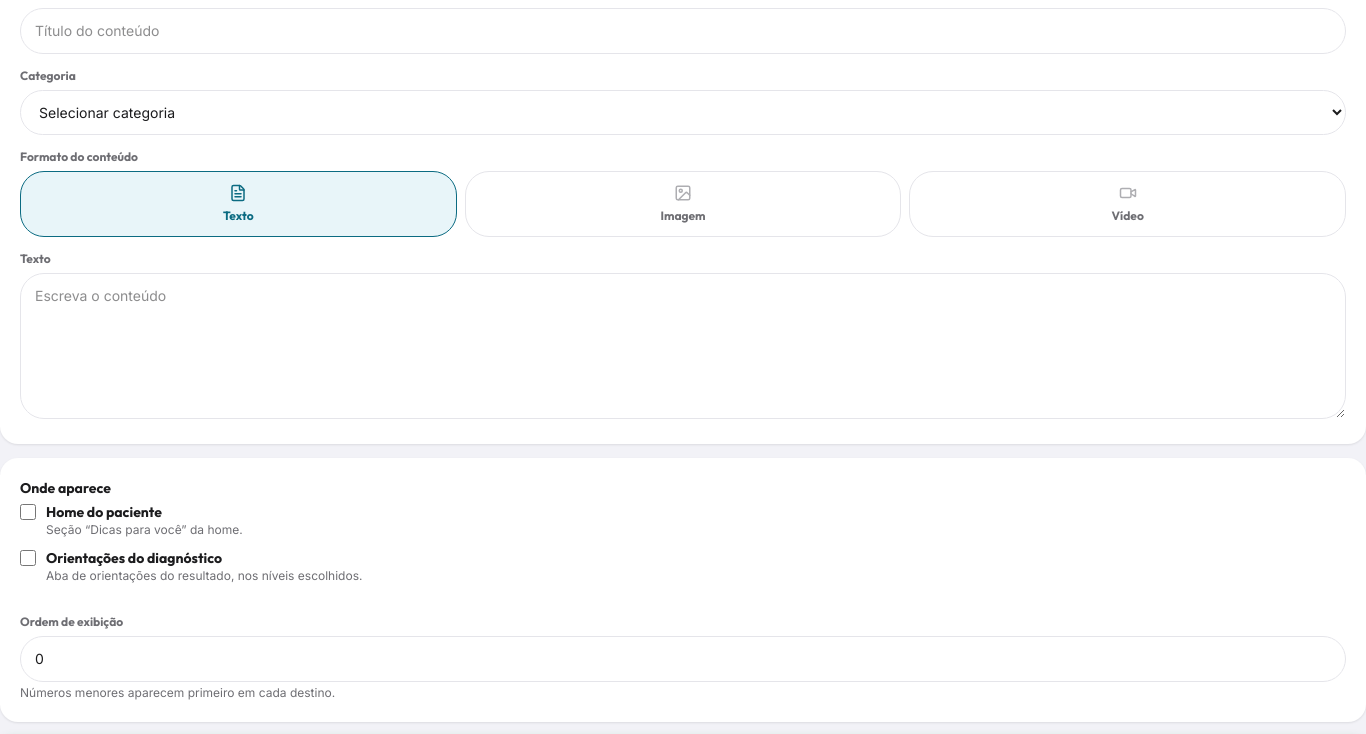
Scenario: ConteudoForm › mostra o que impede salvar e não envia
Click the checkbox labelled "Orientações do diagnóstico": (28, 558) [20, 550, 36, 566]
(page scrolled)
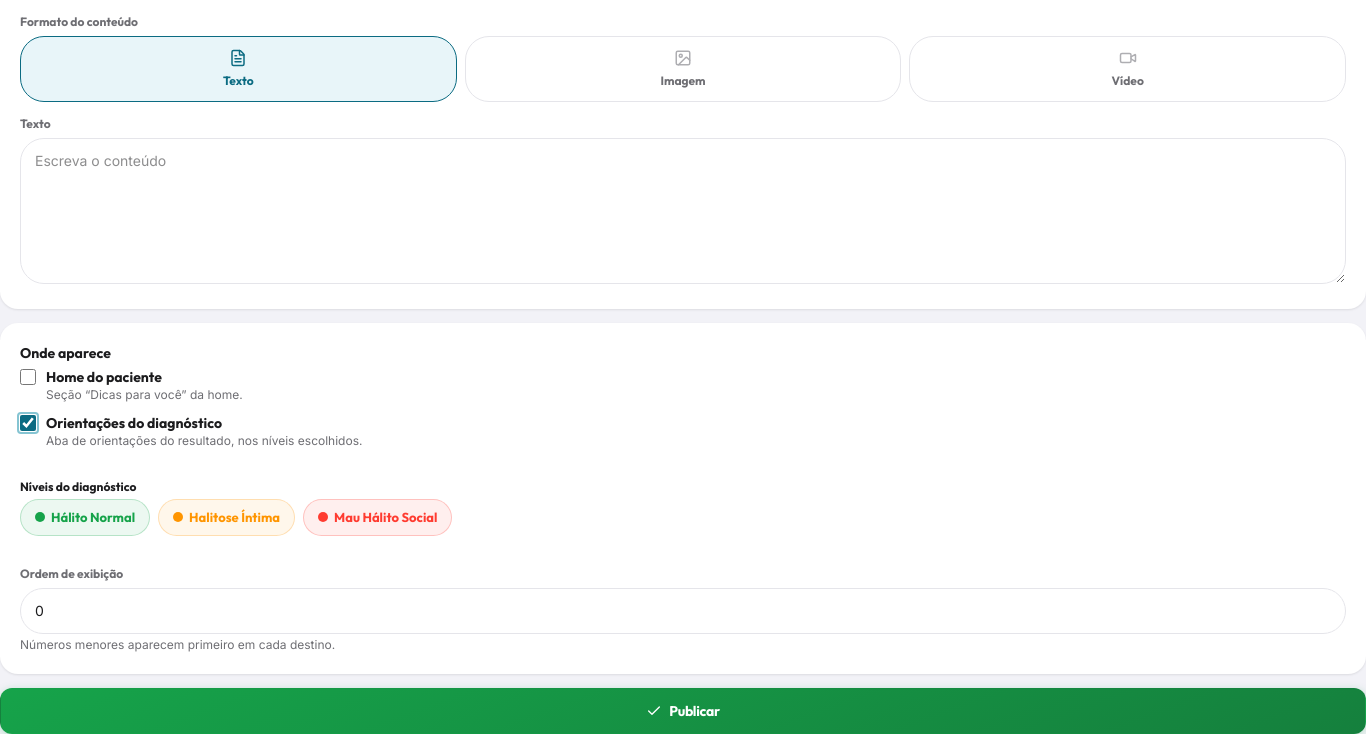
Click the button "Publicar": (683, 711) [0, 688, 1365, 733]
(page scrolled)
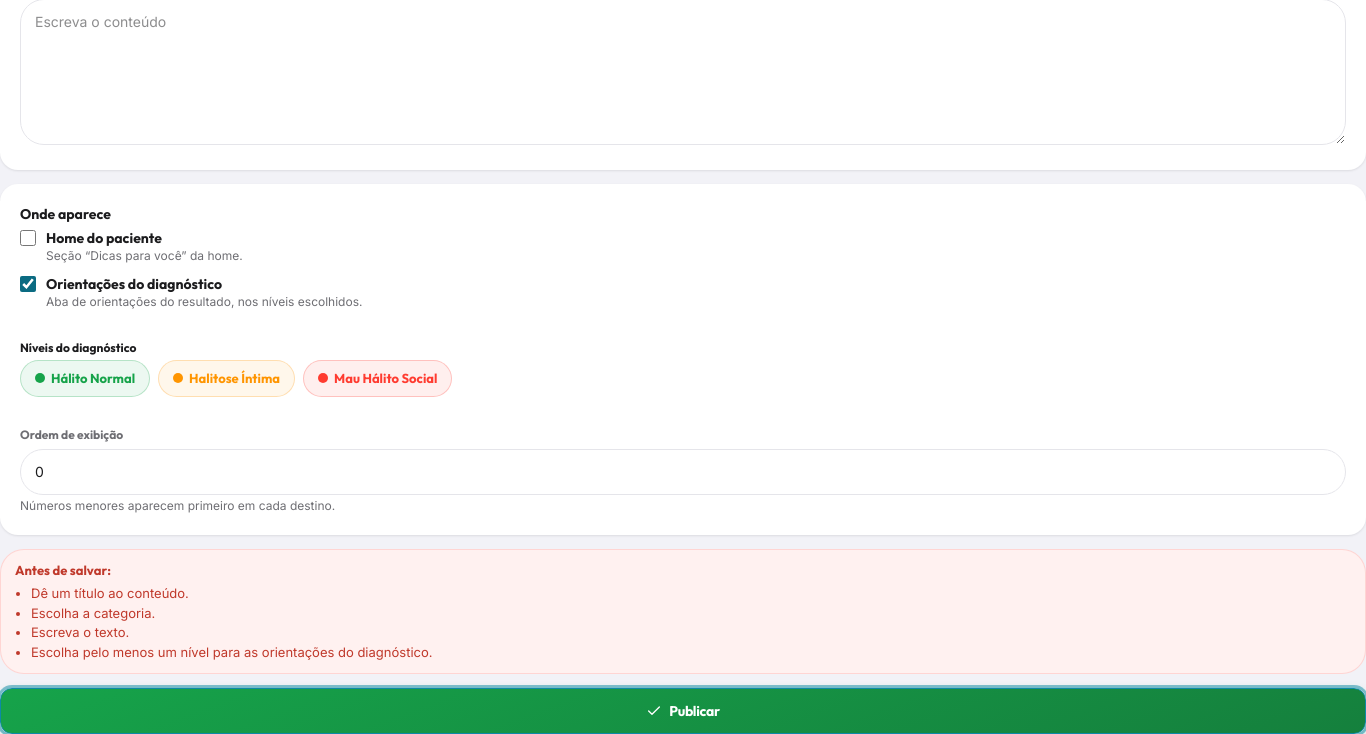
Now the message shows "Dê um título ao conteúdo.", box [31, 585, 189, 601]
Now the message shows "Escolha a categoria.", box [31, 605, 155, 621]
Now the message shows "Escreva o texto.", box [31, 624, 129, 640]
